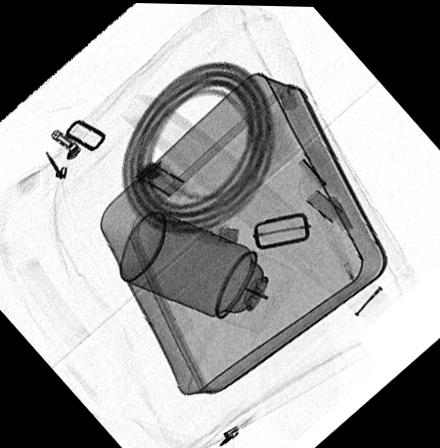Sprayer: (120, 209, 295, 331)
